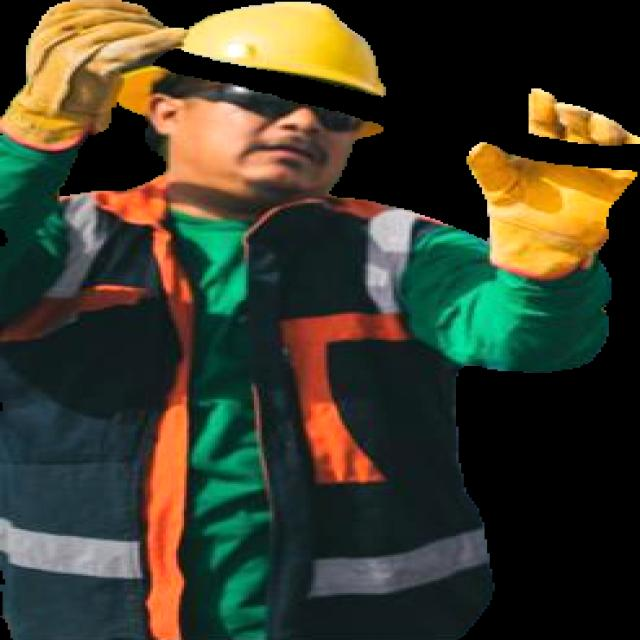Pessoa: (0, 0, 637, 639)
